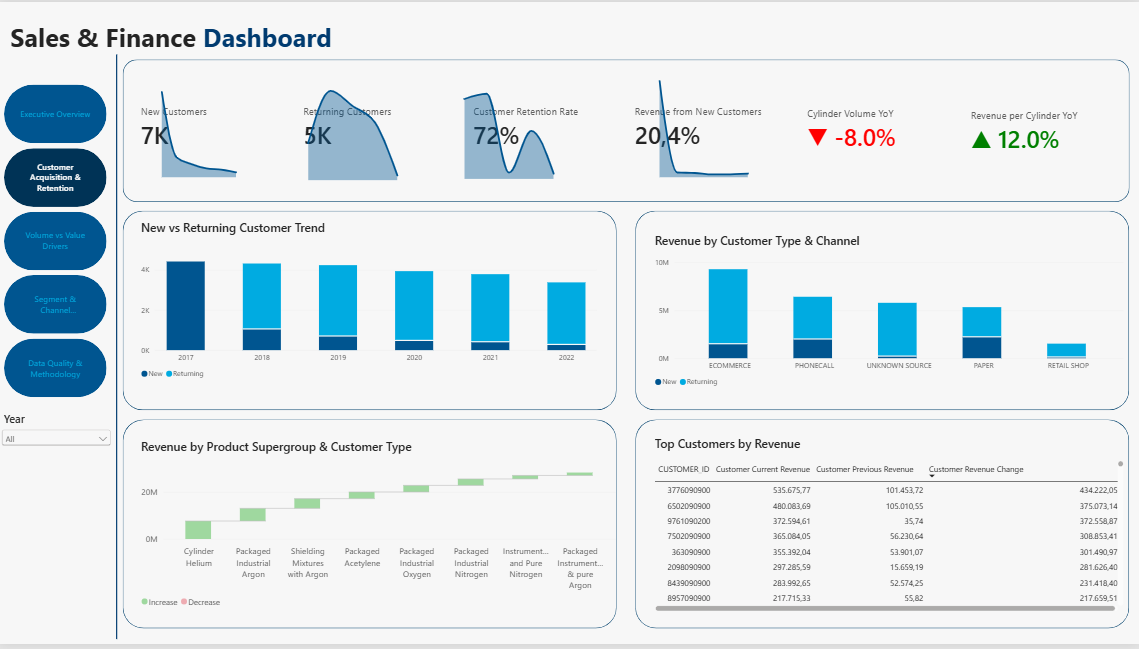

The dashboard page shown, as its layout file describes it:
{"tool":"powerbi","page":{"name":"Customer Acquisition & Retention","canvas":[1920,1080],"ordinal":1},"visuals":[{"type":"shape","box":[208,704,832,352],"z":0},{"type":"shape","box":[1072,704,832,352],"z":1000},{"type":"shape","box":[1072,352,832,336],"z":2000},{"type":"shape","box":[208,352,832,336],"z":3000},{"type":"shape","box":[208,96,1696,240],"z":4000},{"type":"slicer","fields":{"Values":["Year Selector.Year"]},"box":[0,688.1,192.8,81.5],"z":5000},{"type":"columnChart","title":"New vs  Returning Customer Trend","fields":{"Category":["Date.Year"],"Series":["Order.Customer Type"],"Y":["Order.Active Customers"]},"box":[224,352,800,304],"z":6000},{"type":"columnChart","title":"Revenue by Customer Type & Channel","fields":{"Category":["Order.ORDER_CHANNEL"],"Series":["Order.Customer Type"],"Y":["Order.Total Revenue"]},"box":[1088.2,372.1,821.4,296.5],"z":7000},{"type":"tableEx","title":"Top Customers by Revenue","fields":{"Values":["Order.CUSTOMER_ID","Order.Customer Current Revenue","Order.Customer Previous Revenue","Order.Customer Revenue Change"]},"box":[1088.2,716.1,821.4,326.2],"z":8000},{"type":"waterfallChart","title":"Revenue by Product Supergroup & Customer Type","fields":{"Category":["Order.PRODUCT_SUPERGROUP"],"Y":["Order.Total Revenue"]},"box":[224,720,832,320],"z":9000},{"type":"textbox","box":[19,29.2,557.3,80.2],"z":10000},{"type":"shape","box":[192,88,13.1,984.8],"z":11000},{"type":"cardVisual","fields":{"Data":["Order.New Customers"]},"box":[224,112,260,200],"z":12000},{"type":"cardVisual","fields":{"Data":["Order.Customer Retention Rate"]},"box":[784,112,260,200],"z":13000},{"type":"cardVisual","fields":{"Data":["Order.Returning Customers"]},"box":[496,112,260,200],"z":14000},{"type":"cardVisual","fields":{"Data":["Order.Revenue from New Customers %"]},"box":[1056,112,260,200],"z":15000},{"type":"cardVisual","fields":{"Data":["Order.Volume YoY Display"]},"box":[1344.7,120.1,259.5,191.3],"z":16000},{"type":"cardVisual","fields":{"Data":["Order.Revenue YoY Display"]},"box":[1620.5,120.1,259.5,198.7],"z":17000},{"type":"pageNavigator","box":[7.8,137.9,174,529.8],"z":18000},{"type":"areaChart","fields":{"Category":["Year Selector.Year"],"Y":["Order.New Customers"]},"box":[224.1,109.7,202.2,202.2],"z":19000},{"type":"stackedAreaChart","fields":{"Category":["Year Selector.Year"],"Y":["Order.Returning Customers"]},"box":[495.3,114.4,202.2,202.2],"z":20000},{"type":"stackedAreaChart","fields":{"Category":["Year Selector.Year"],"Y":["Order.Customer Retention Rate"]},"box":[758.6,111.3,202.2,202.2],"z":21000},{"type":"stackedAreaChart","fields":{"Category":["Year Selector.Year"],"Y":["Order.Revenue from New Customers %"]},"box":[1056.4,109.7,230.4,202.2],"z":22000}]}

Visuals, with their boxes on the page's 1920x1080 design canvas (x1, y1, x2, y2). These are canvas units, not pixel positions in the 1139x649 screenshot, which may show the page scaled, cropped or inside an application window:
shape: 208 704 1040 1056
shape: 1072 704 1904 1056
shape: 1072 352 1904 688
shape: 208 352 1040 688
shape: 208 96 1904 336
slicer - Year Selector.Year: 0 688 193 770
"New vs  Returning Customer Trend" columnChart: 224 352 1024 656
"Revenue by Customer Type & Channel" columnChart: 1088 372 1910 669
"Top Customers by Revenue" tableEx: 1088 716 1910 1042
"Revenue by Product Supergroup & Customer Type" waterfallChart: 224 720 1056 1040
textbox: 19 29 576 109
shape: 192 88 205 1073
cardVisual - Order.New Customers: 224 112 484 312
cardVisual - Order.Customer Retention Rate: 784 112 1044 312
cardVisual - Order.Returning Customers: 496 112 756 312
cardVisual - Order.Revenue from New Customers %: 1056 112 1316 312
cardVisual - Order.Volume YoY Display: 1345 120 1604 311
cardVisual - Order.Revenue YoY Display: 1620 120 1880 319
pageNavigator: 8 138 182 668
areaChart - Year Selector.Year x Order.New Customers: 224 110 426 312
stackedAreaChart - Year Selector.Year x Order.Returning Customers: 495 114 698 317
stackedAreaChart - Year Selector.Year x Order.Customer Retention Rate: 759 111 961 314
stackedAreaChart - Year Selector.Year x Order.Revenue from New Customers %: 1056 110 1287 312
